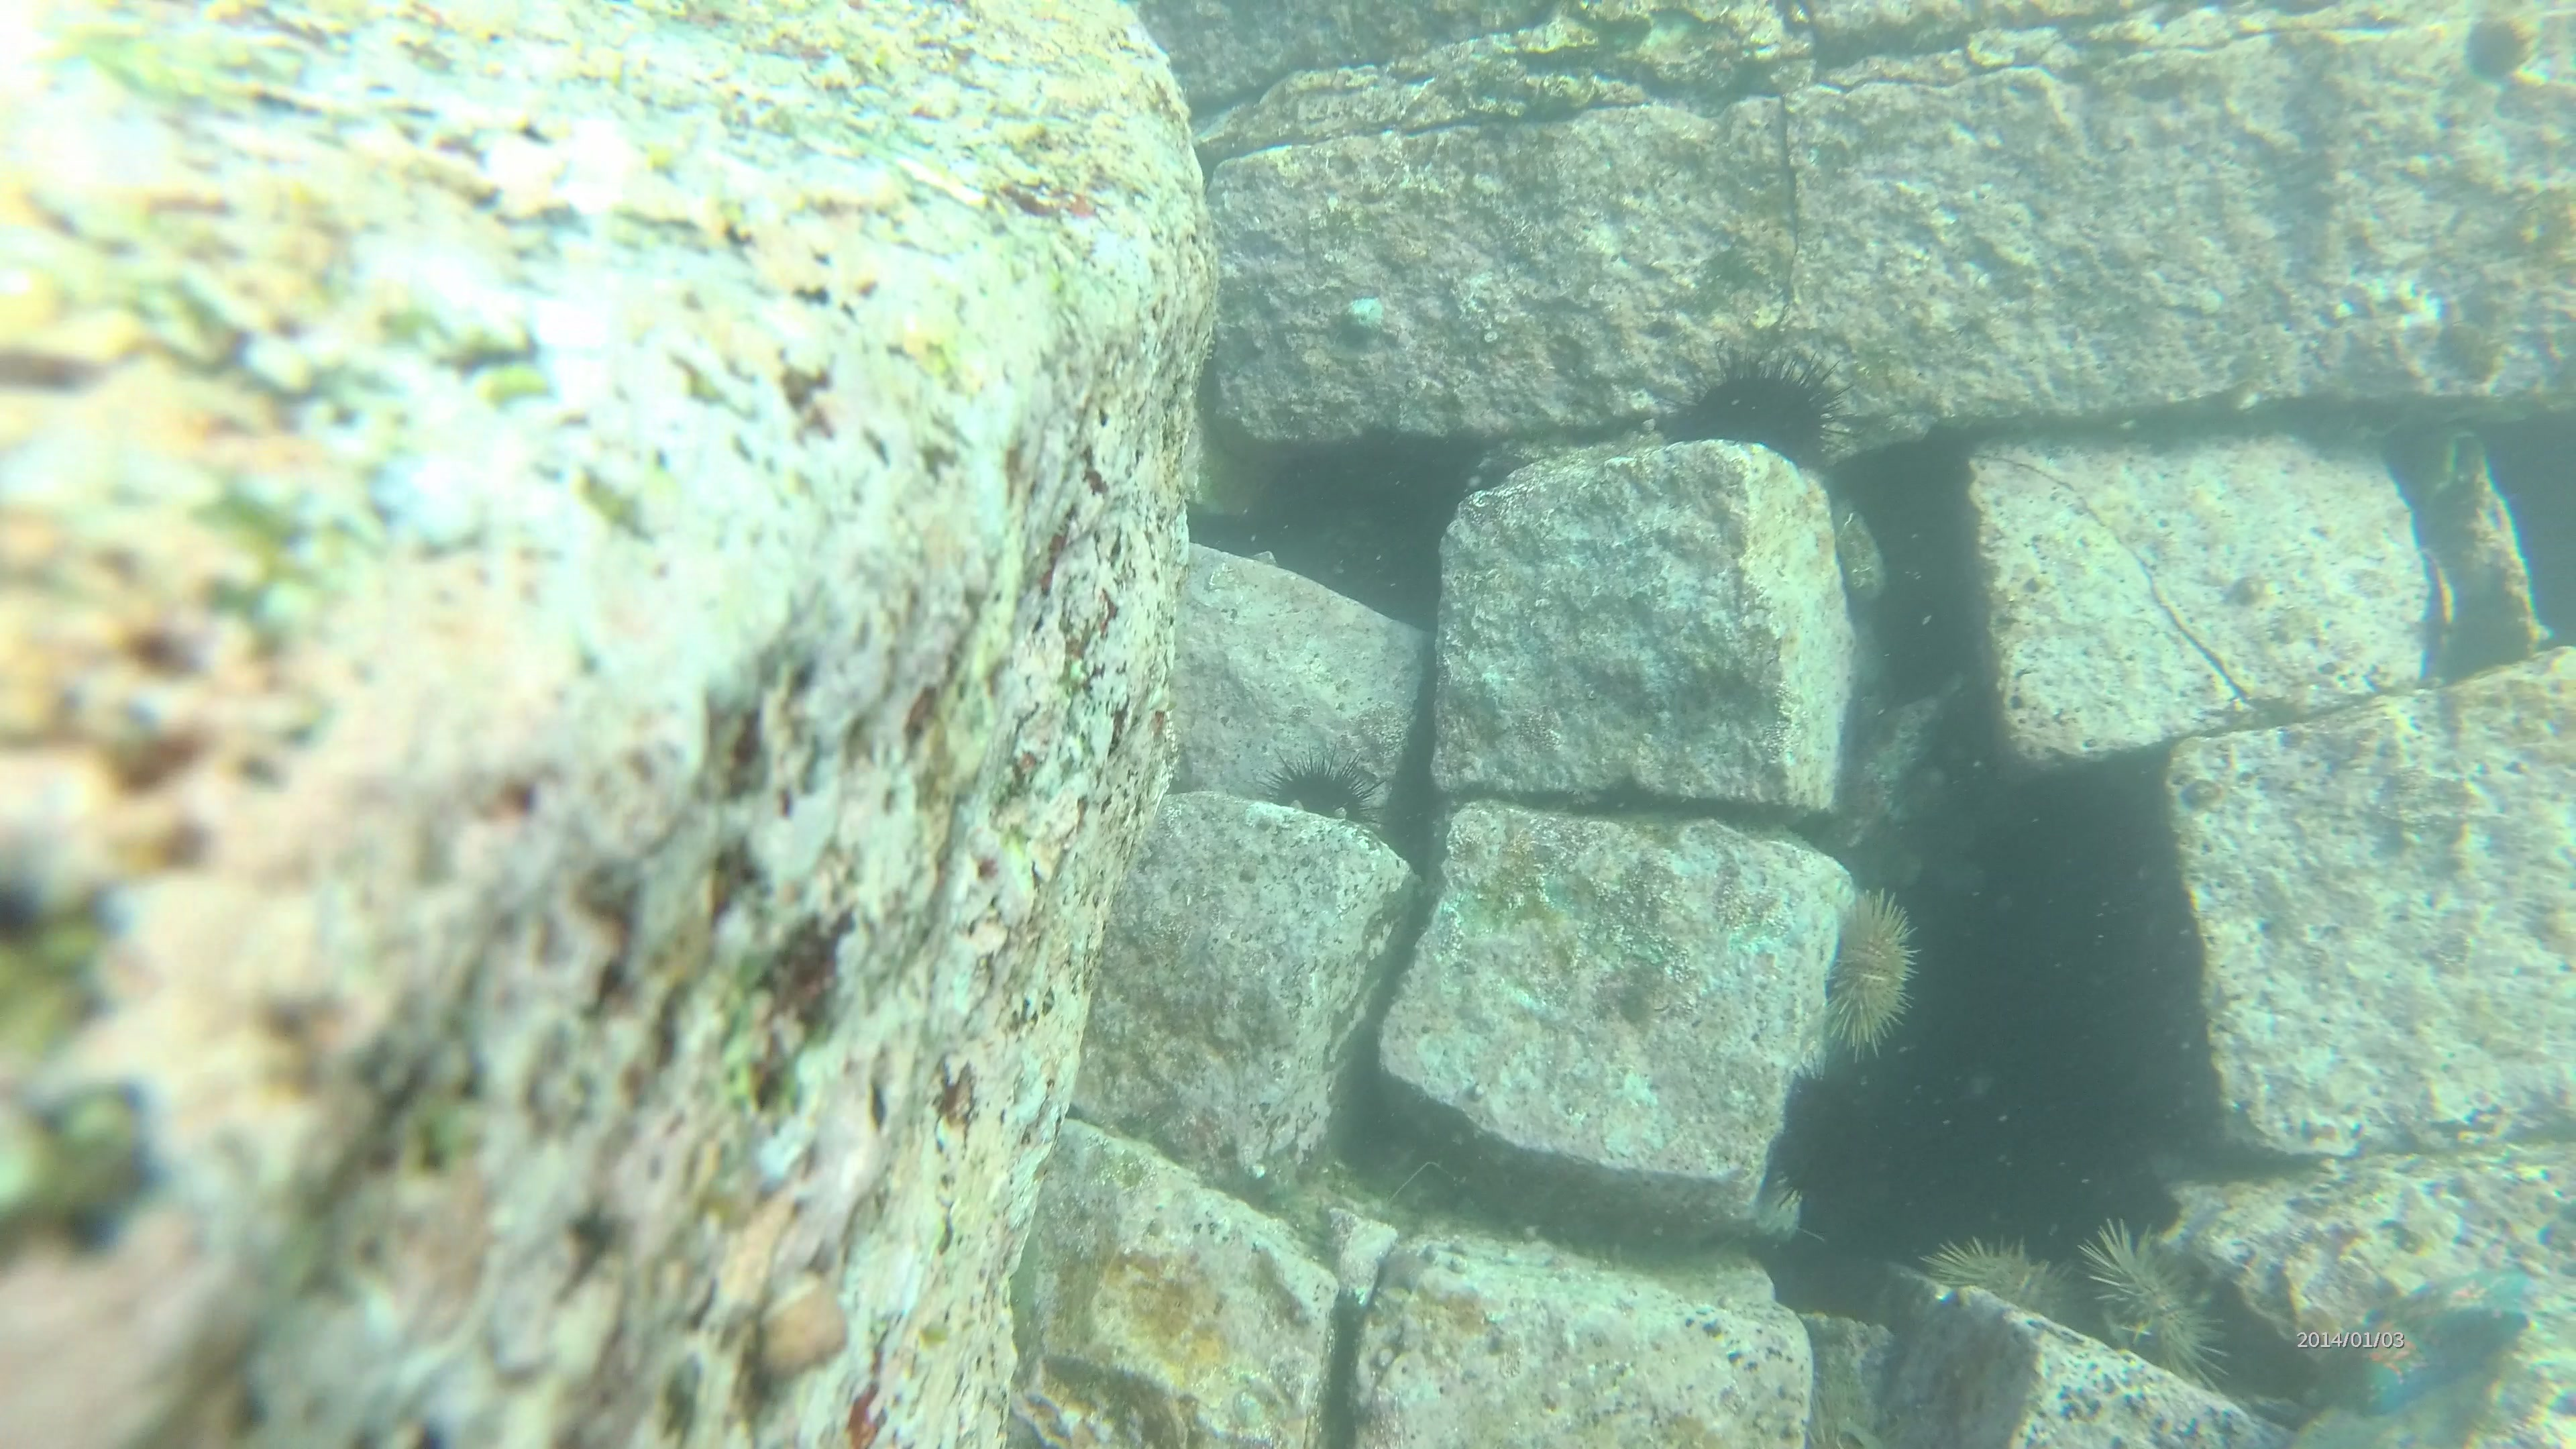echinus: (1652, 347, 1868, 474), (2074, 1217, 2231, 1391), (1813, 883, 1921, 1062), (1916, 1224, 2068, 1323), (1256, 747, 1391, 847), (2465, 0, 2537, 83)
starfish: (2311, 1258, 2537, 1417)
